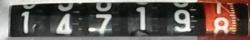digits: (86, 0, 117, 37), (207, 0, 233, 40), (54, 1, 75, 37), (173, 9, 191, 32), (135, 6, 146, 29), (20, 11, 30, 33), (216, 2, 221, 14)
